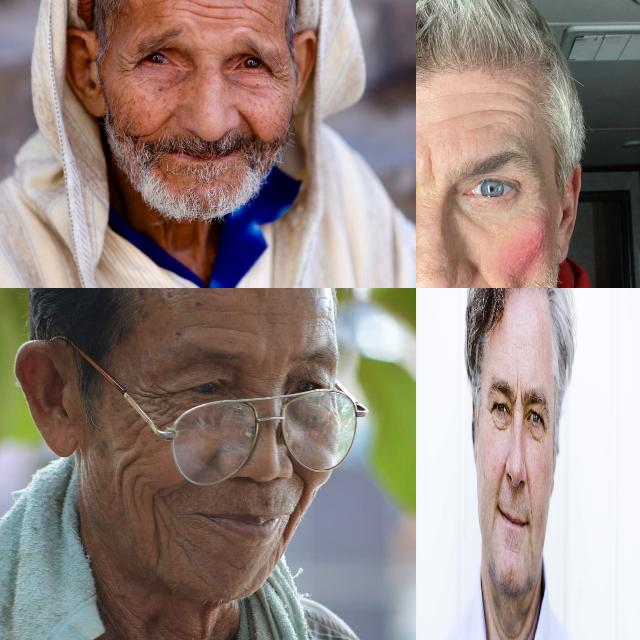chin: (178, 538, 200, 576)
crows_feet: (136, 386, 168, 428), (114, 52, 140, 78), (270, 64, 294, 90), (486, 403, 493, 419)
forehead: (458, 88, 532, 136), (245, 0, 283, 28), (192, 1, 240, 23), (202, 318, 252, 339), (142, 0, 185, 6), (519, 339, 534, 356), (504, 346, 516, 364)
frown_line: (419, 146, 438, 190), (519, 379, 524, 406), (514, 378, 518, 407)
gummy_smile: (291, 467, 311, 517), (474, 266, 508, 288), (150, 110, 180, 132), (238, 110, 258, 134)
masseter: (112, 447, 140, 503)
sad_smile: (145, 500, 171, 568)
